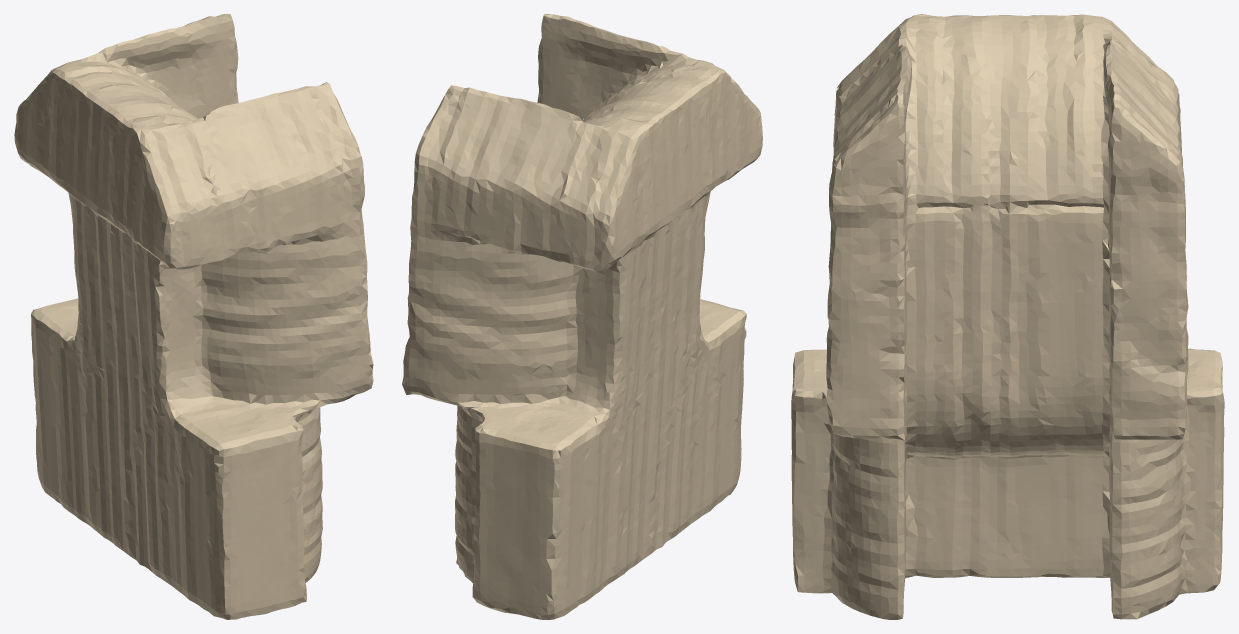
The model's file is skulptur-02.glb.
3 renders of one model, left to right at view 1: azimuth 30°, elevation 25°; view 2: azimuth 150°, elevation 25°; view 3: azimuth 270°, elevation 25°, orthographic. The views are drawn at different scales.
Visible parts, largest first — view 1: skulptur-02; view 2: skulptur-02; view 3: skulptur-02.
Part boxes in pixels (x1,y1,x2,y2): skulptur-02: (14,14,373,619); skulptur-02: (402,14,762,619); skulptur-02: (791,14,1224,619).
Bounding box in the file's own units: 0.455 × 0.9915 × 0.7356.
